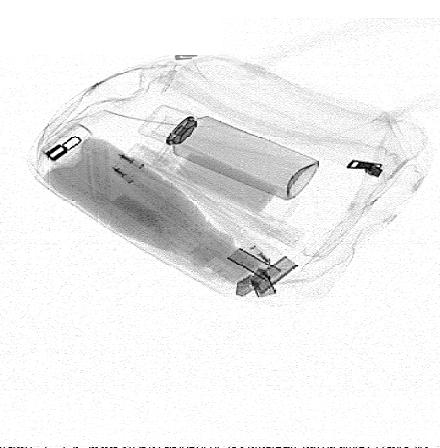Sprayer: (139, 105, 321, 201)
